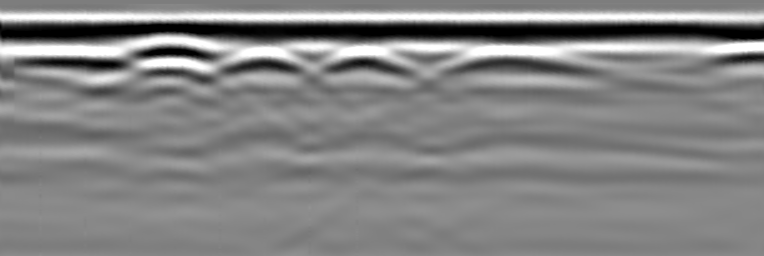pipe: (124, 23, 226, 60)
steel: (433, 47, 597, 77), (319, 48, 421, 75), (221, 47, 306, 74)
